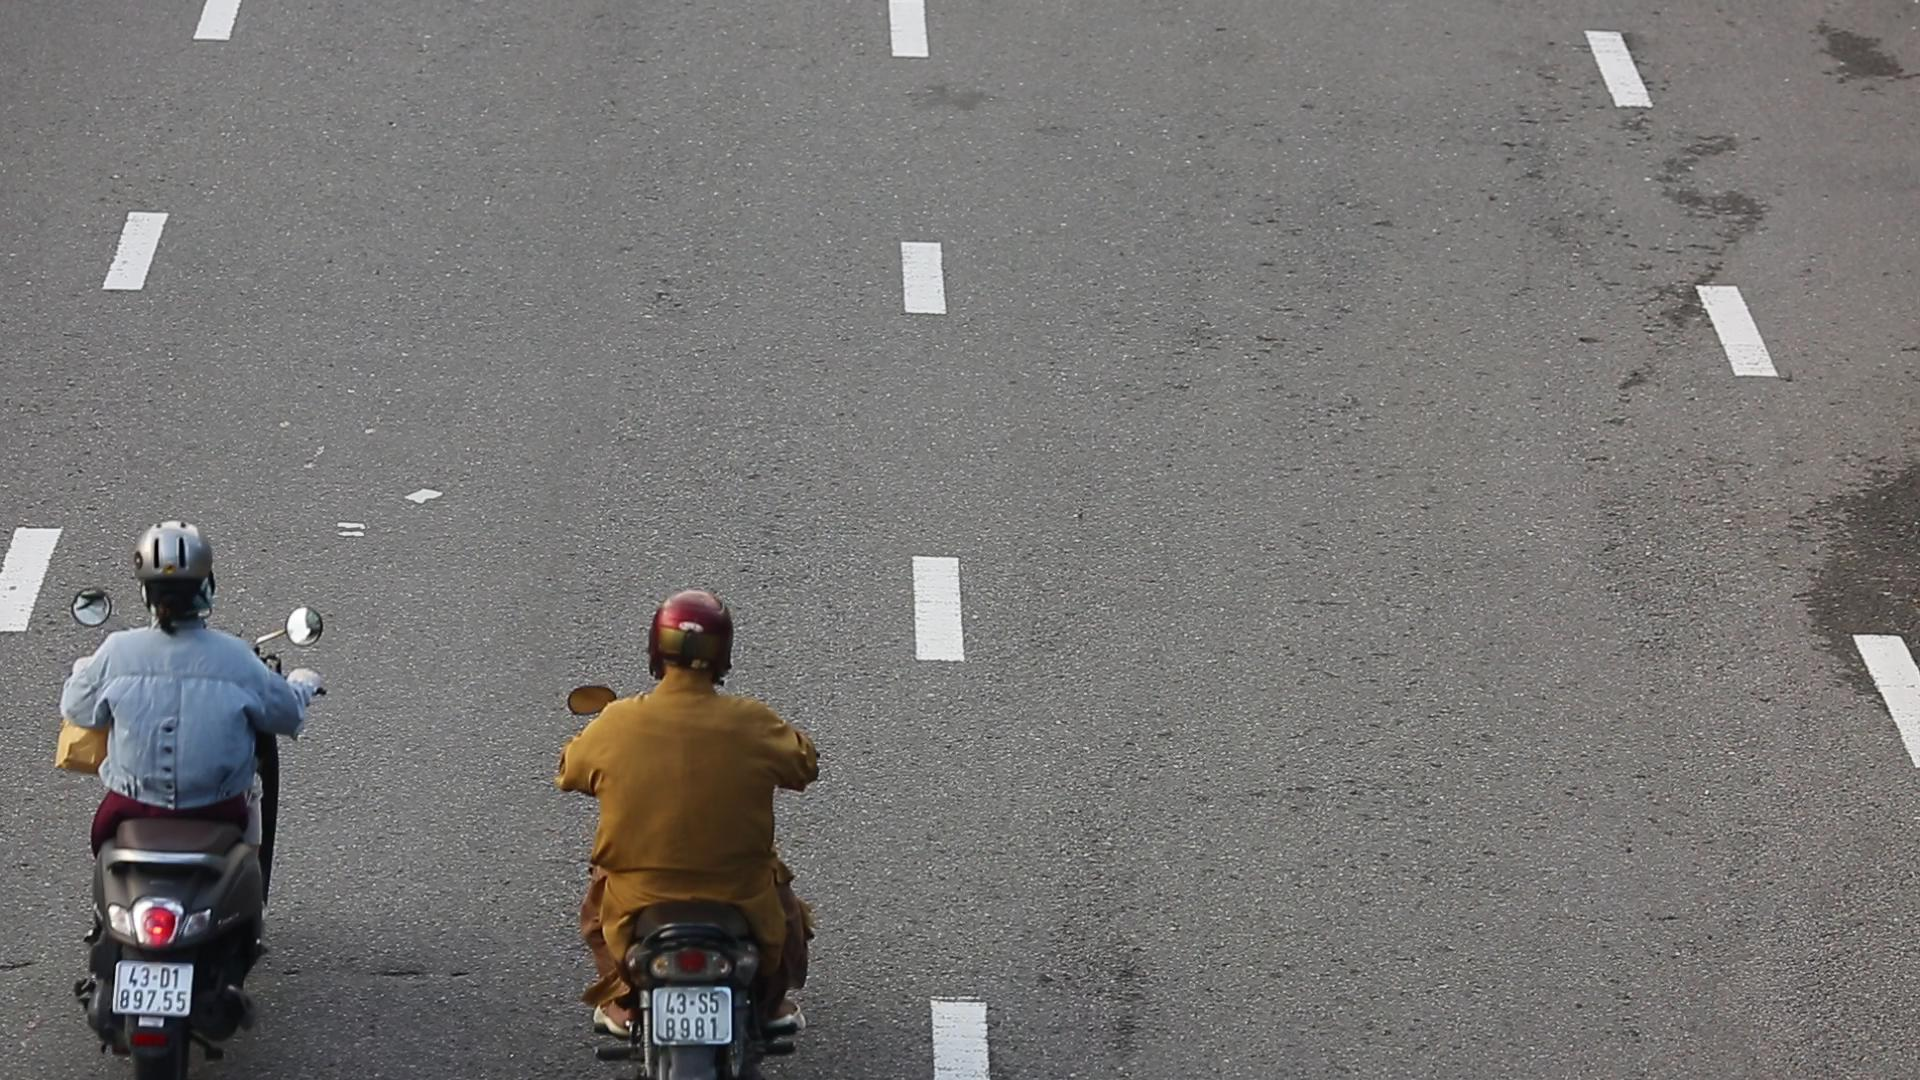motobike: (45, 510, 332, 1080), (549, 588, 825, 1080)
